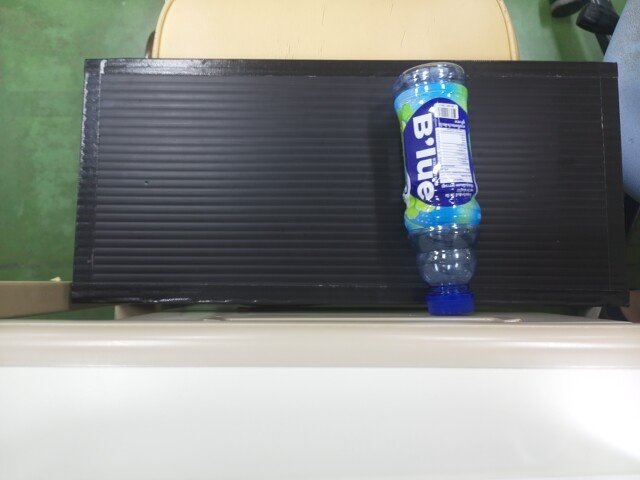plastic_bottle: (400, 53, 481, 306)
